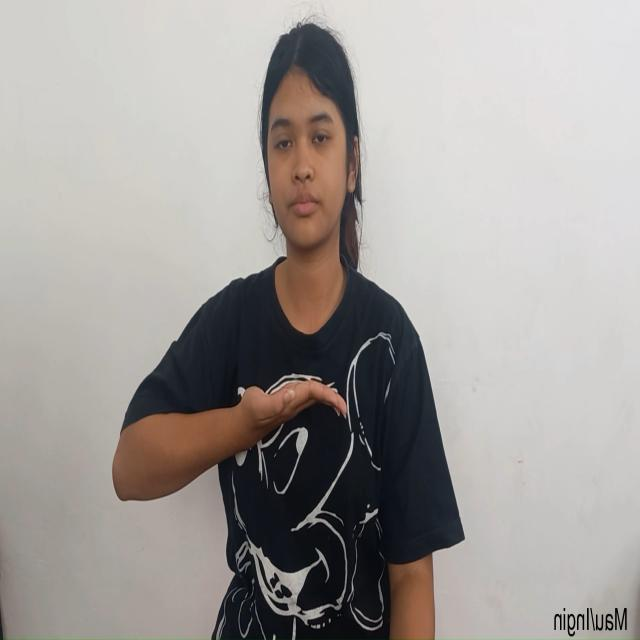Mau-Ingin -BISINDO-: (112, 375, 350, 505)
